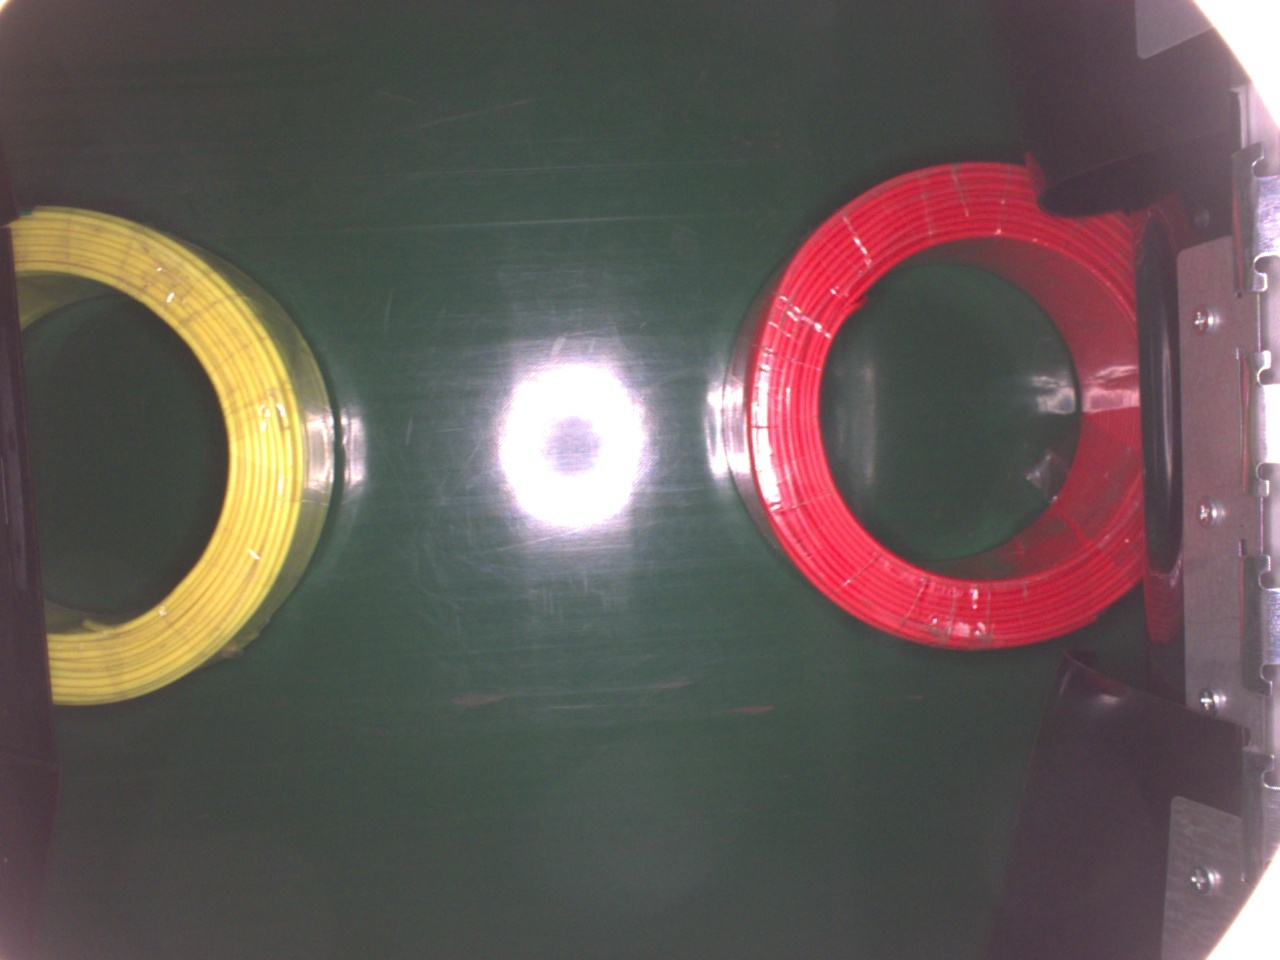red: (715, 155, 1139, 642)
yellow: (12, 201, 345, 704)
